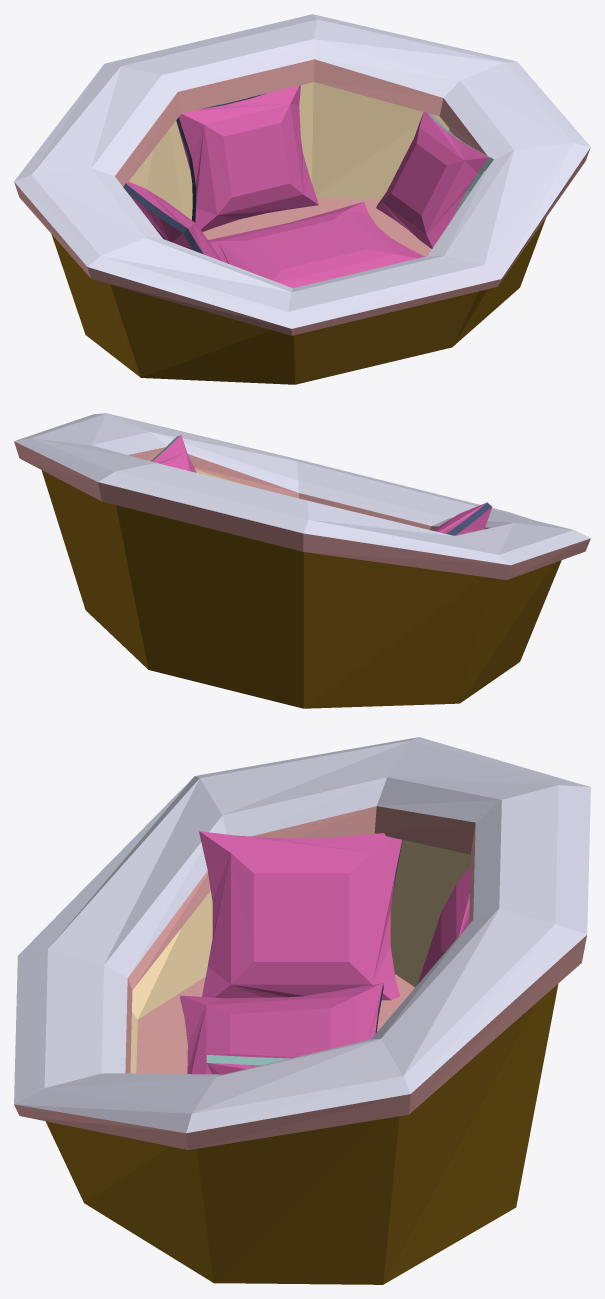
File: Bed_Dog.fbx
3 renders of one model, top to bottom at view 1: azimuth 30°, elevation 25°; view 2: azimuth 150°, elevation 25°; view 3: azimuth 270°, elevation 25°, orthographic. The views are drawn at different scales.
Parts seen in each view (by area): view 1: pCylinder7; view 2: pCylinder7; view 3: pCylinder7.
Boxes of the visible parts, <box> form: pCylinder7: <box>14,14,590,384</box>; pCylinder7: <box>14,413,590,708</box>; pCylinder7: <box>14,737,590,1284</box>.
Size of the model in its own units: 120 by 46.43 by 81.57.
